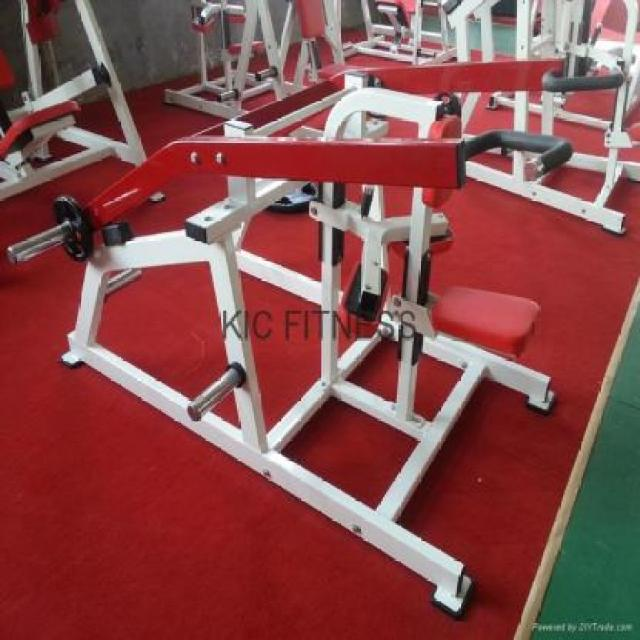seated dip machine: (3, 54, 625, 620)
